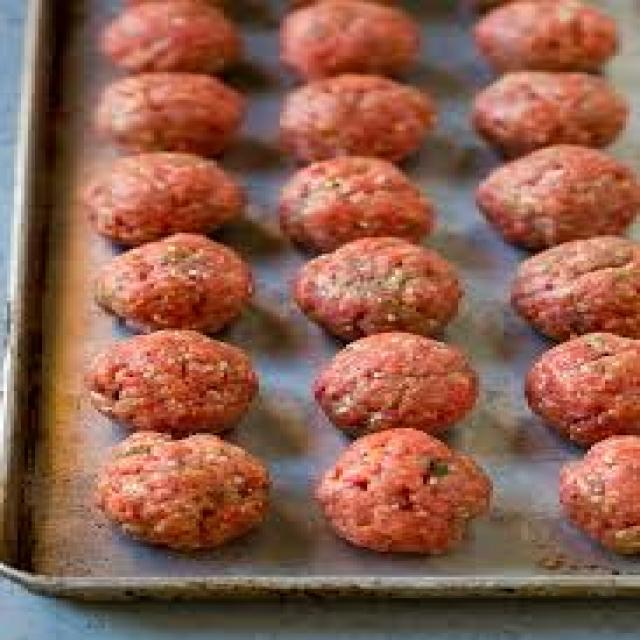meatball: (306, 428, 516, 556), (82, 428, 283, 552), (301, 329, 481, 439), (83, 332, 269, 437), (288, 233, 466, 341), (468, 143, 640, 252), (90, 231, 273, 332), (264, 150, 441, 250), (503, 327, 640, 446), (75, 151, 248, 245), (495, 240, 640, 348), (531, 423, 640, 551)
